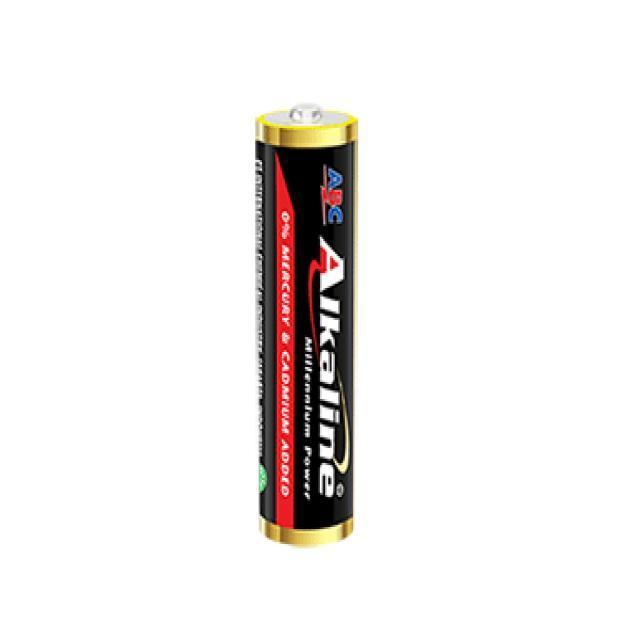AAA: (234, 87, 367, 569)
